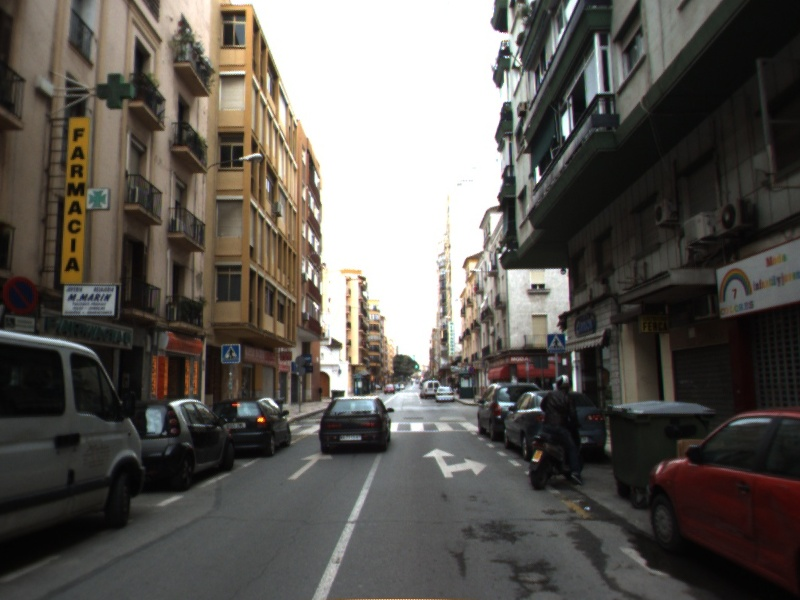STRAIGHT: (286, 450, 334, 481)
STRAIGHT_RIGHT: (421, 446, 489, 479)
